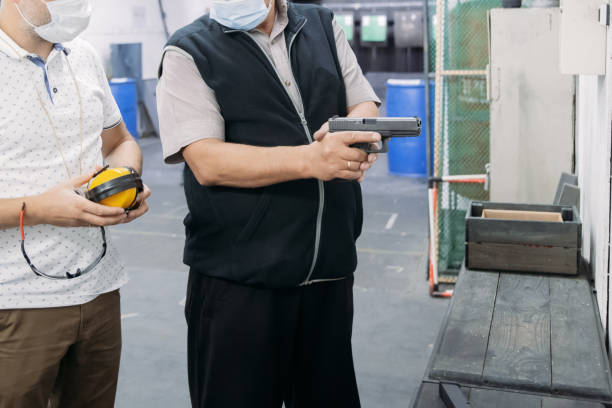gun: (328, 115, 423, 155)
